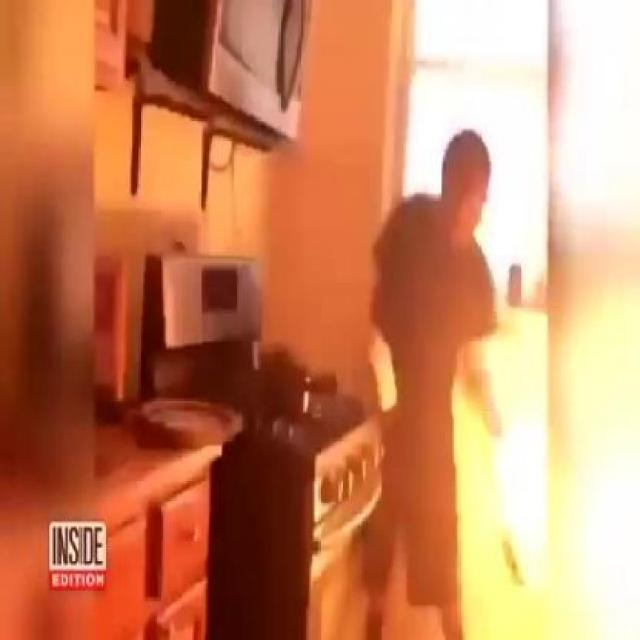fire: (506, 390, 546, 584)
